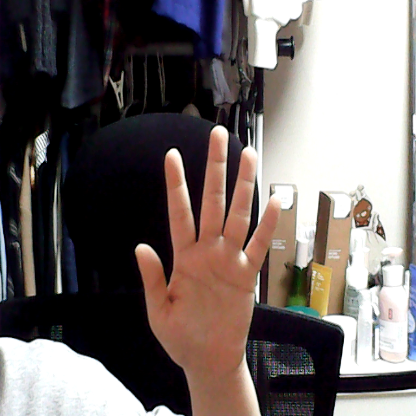Finger_5: (129, 121, 287, 380)
